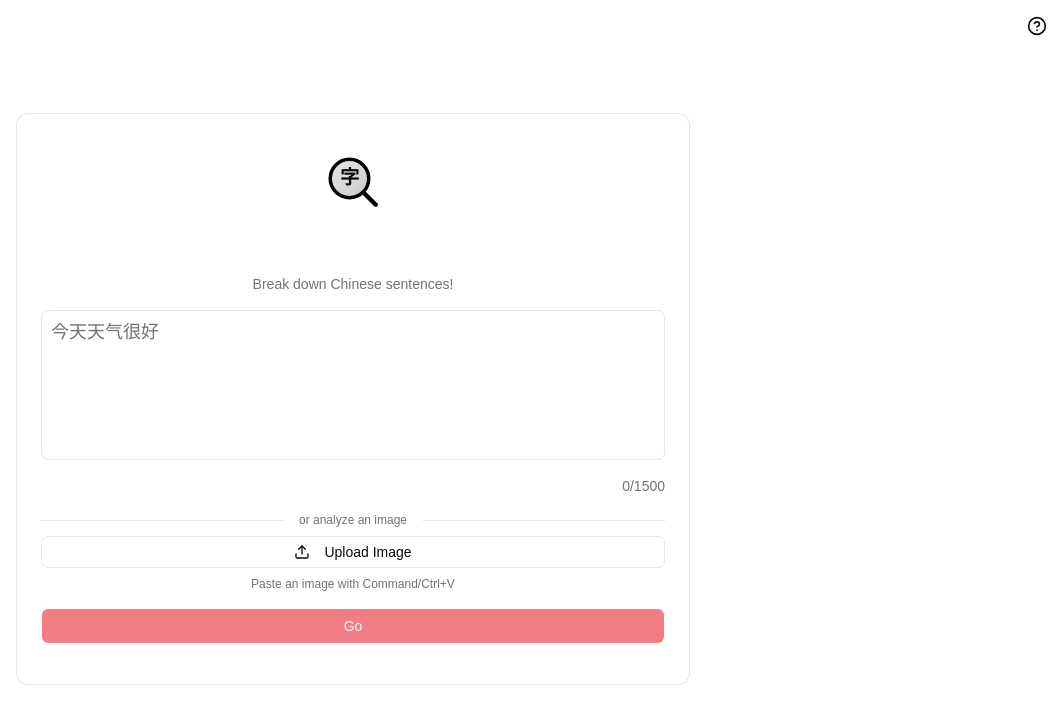
Test: InputView › enables submit button when text is entered
Step 1. Type "你好" into the text box → [353, 385], box [41,310,665,460]
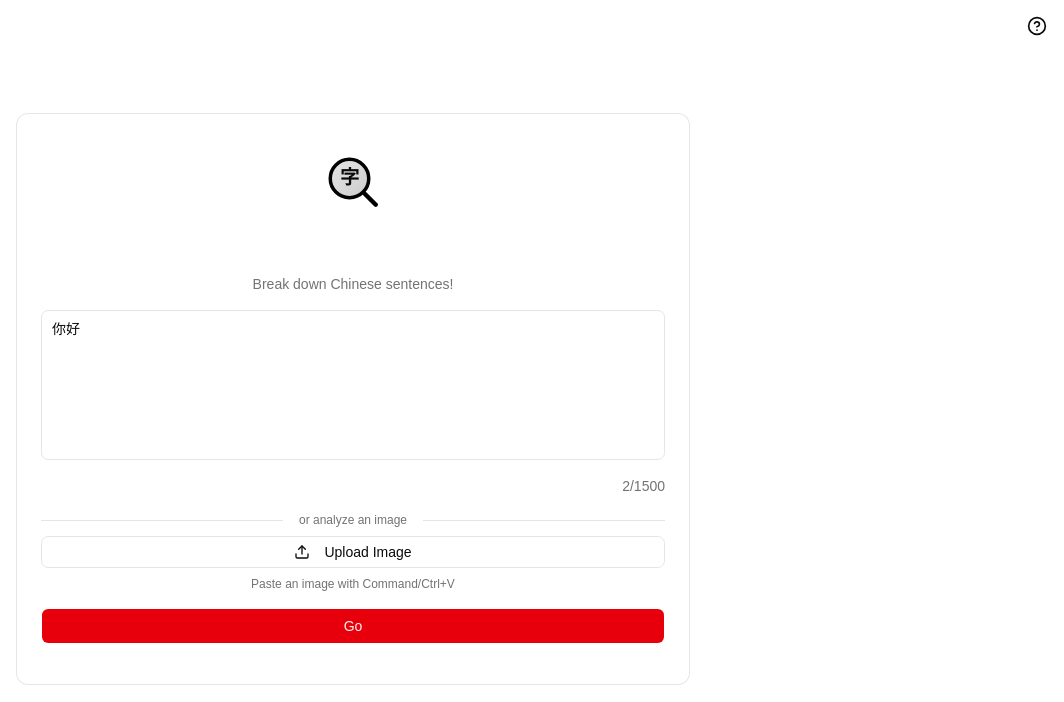
Result: the button "Go" is enabled at [41,608,665,644]
